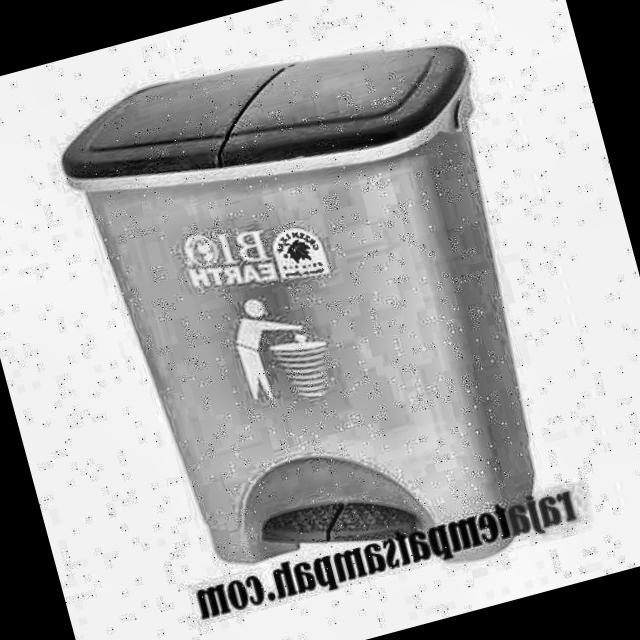Dustbin: (0, 0, 624, 609)
